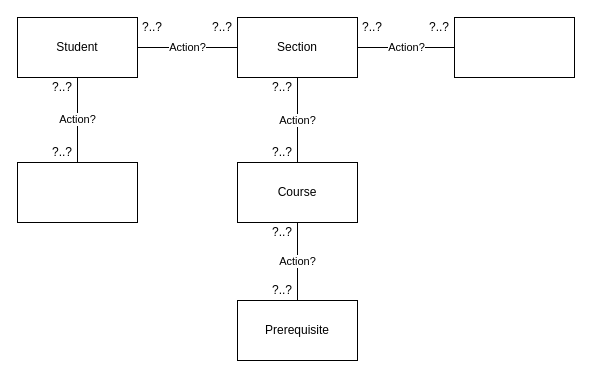
This 592x378 diagram has some shape labels left out. The shapes that lost their labels are listed below. From the top down, each one's centre as x and y in pixels, then its label:
At pixel 514 47: "Teacher".
At pixel 77 192: "Advisor".
